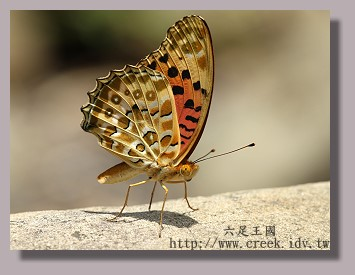Argyreus hyperbius: (74, 9, 258, 236)
butterfly: (76, 11, 260, 238)
